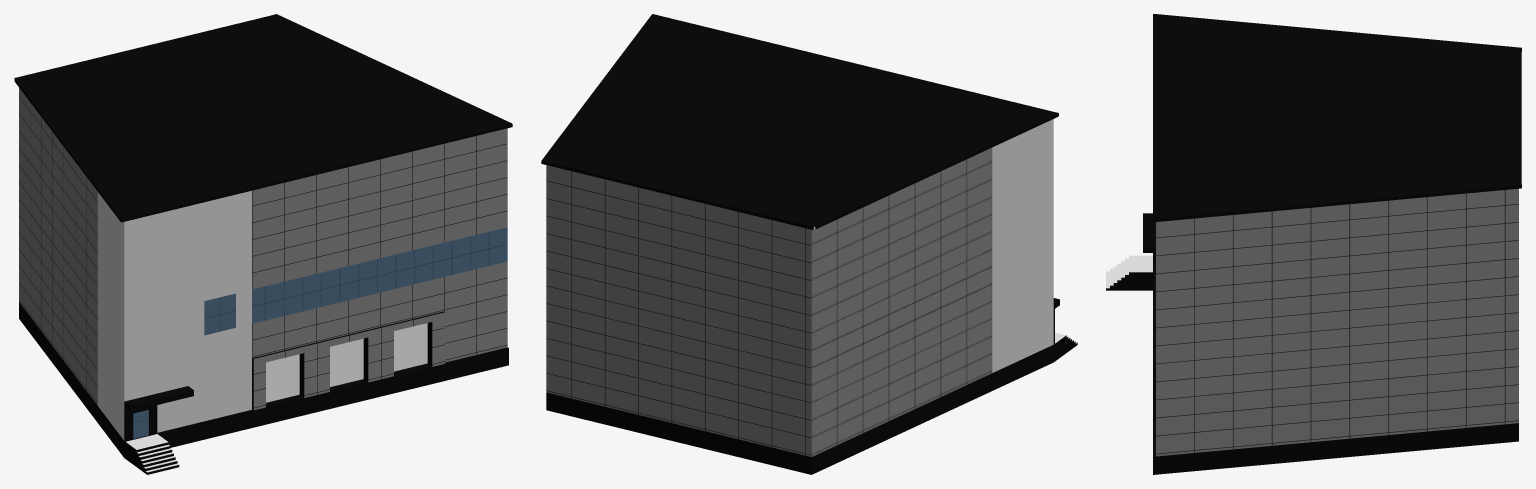
File: model_Warehouse_v07_forUnity.fbx
The picture shows the model from 3 angles, left to right: view 1: azimuth 30°, elevation 25°; view 2: azimuth 150°, elevation 25°; view 3: azimuth 270°, elevation 25°; orthographic projection. The views are drawn at different scales.
Visible parts, largest first — view 1: Warehouse; view 2: Warehouse; view 3: Warehouse.
Part boxes in pixels (left/top/right/bottom): Warehouse: left=14, top=14, right=512, bottom=474; Warehouse: left=541, top=14, right=1077, bottom=474; Warehouse: left=1106, top=14, right=1521, bottom=474.
Bounding box in the file's own units: 2907 × 1707 × 2493.
